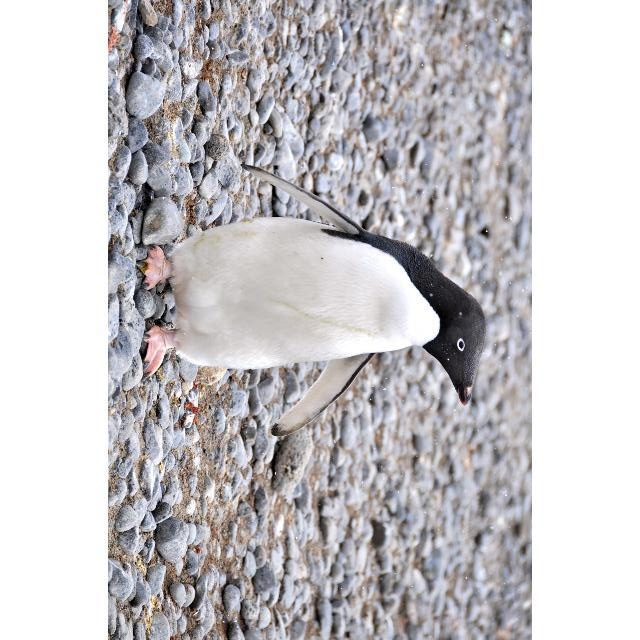penguin: (142, 164, 486, 436)
